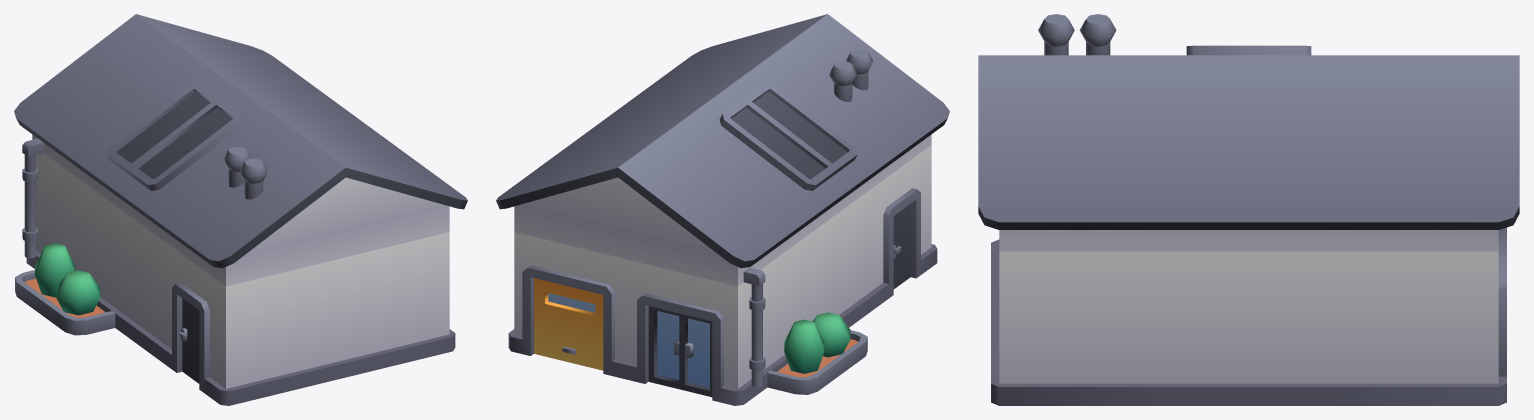
File: building-i.glb
3 renders of one model, left to right at view 1: azimuth 30°, elevation 25°; view 2: azimuth 150°, elevation 25°; view 3: azimuth 270°, elevation 25°, orthographic. The views are drawn at different scales.
Visible parts, largest first — view 1: building-i; view 2: building-i; view 3: building-i.
Boxes of the visible parts, bbox=[...] form: building-i: bbox=[14, 14, 467, 405]; building-i: bbox=[496, 14, 949, 405]; building-i: bbox=[978, 14, 1519, 405].
Size of the model in its own units: 1.03 by 0.7335 by 1.3.
2 materials, 2 textured.
